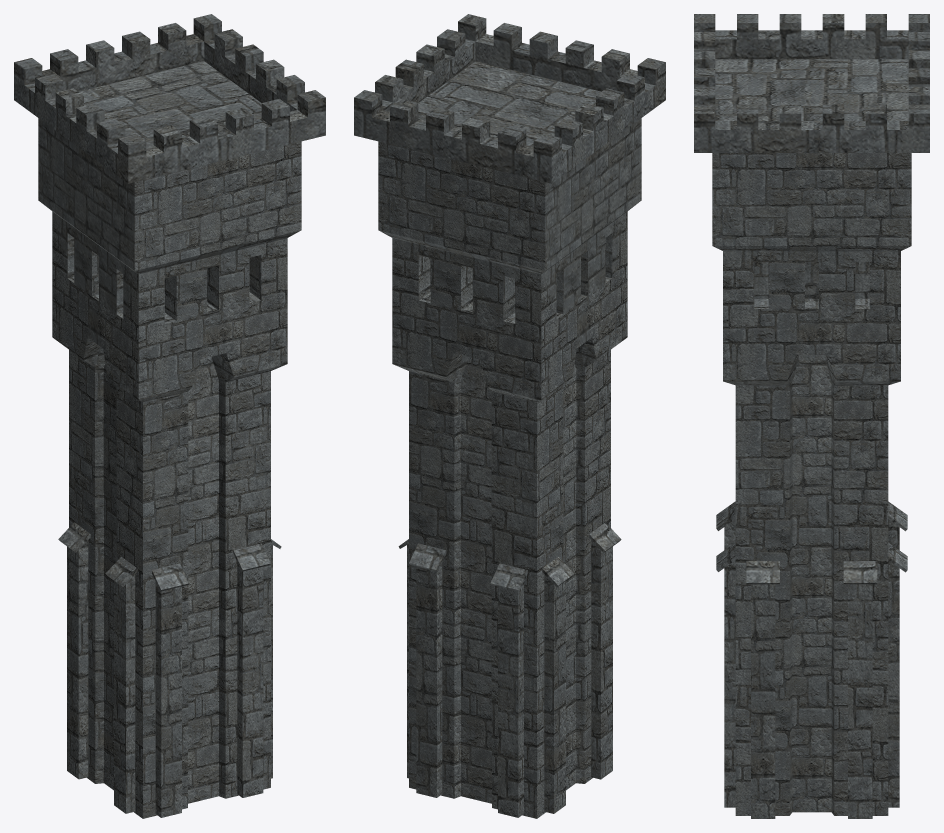
Rendered from s_xsc_jianzhu25_f.fbx.
The picture shows the model from 3 angles, left to right: view 1: azimuth 30°, elevation 25°; view 2: azimuth 150°, elevation 25°; view 3: azimuth 270°, elevation 25°; orthographic projection. The views are drawn at different scales.
Visible parts, largest first — view 1: polySurface88; view 2: polySurface88; view 3: polySurface88.
Part boxes in pixels (bbox=[...]): polySurface88: bbox=[14, 14, 325, 818]; polySurface88: bbox=[354, 14, 665, 818]; polySurface88: bbox=[694, 14, 929, 818].
Size of the model in its own units: 7.94 by 26.71 by 7.94.
